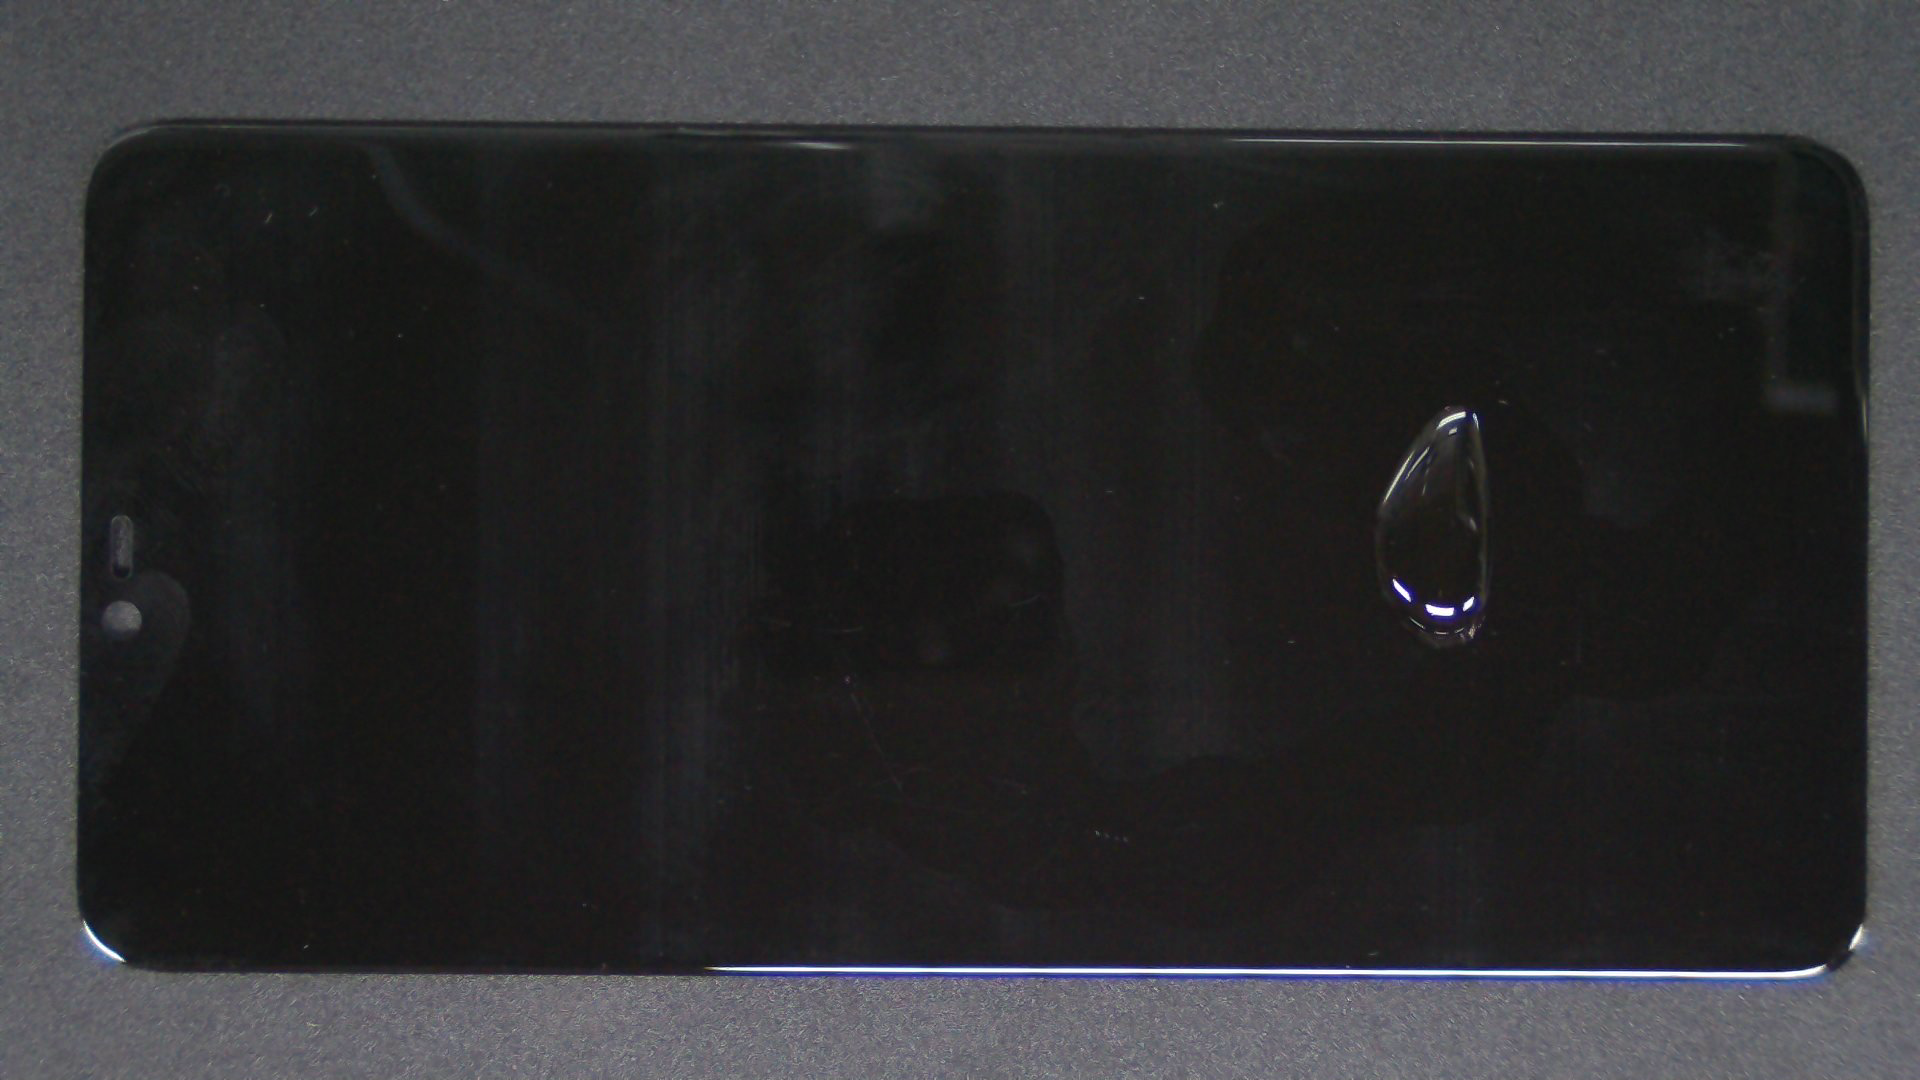defect: (1374, 405, 1489, 649)
